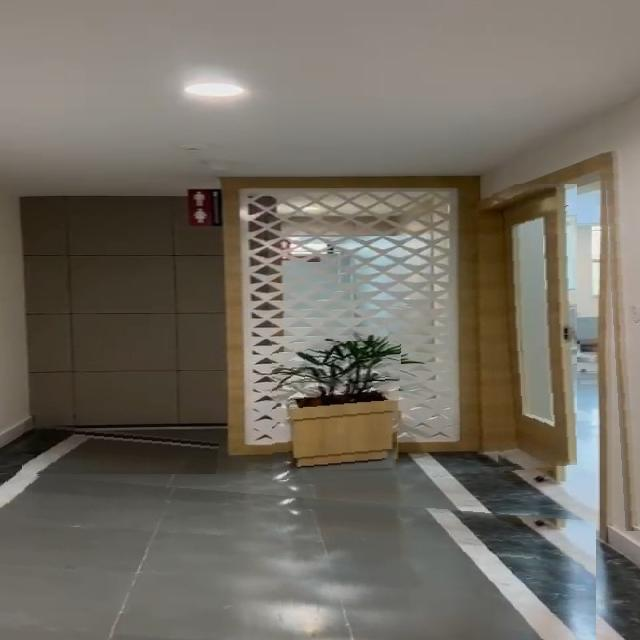door: (486, 184, 577, 472)
floor: (0, 473, 596, 640), (22, 422, 219, 474)
furniture: (272, 342, 402, 482)
wall: (600, 97, 640, 531)
